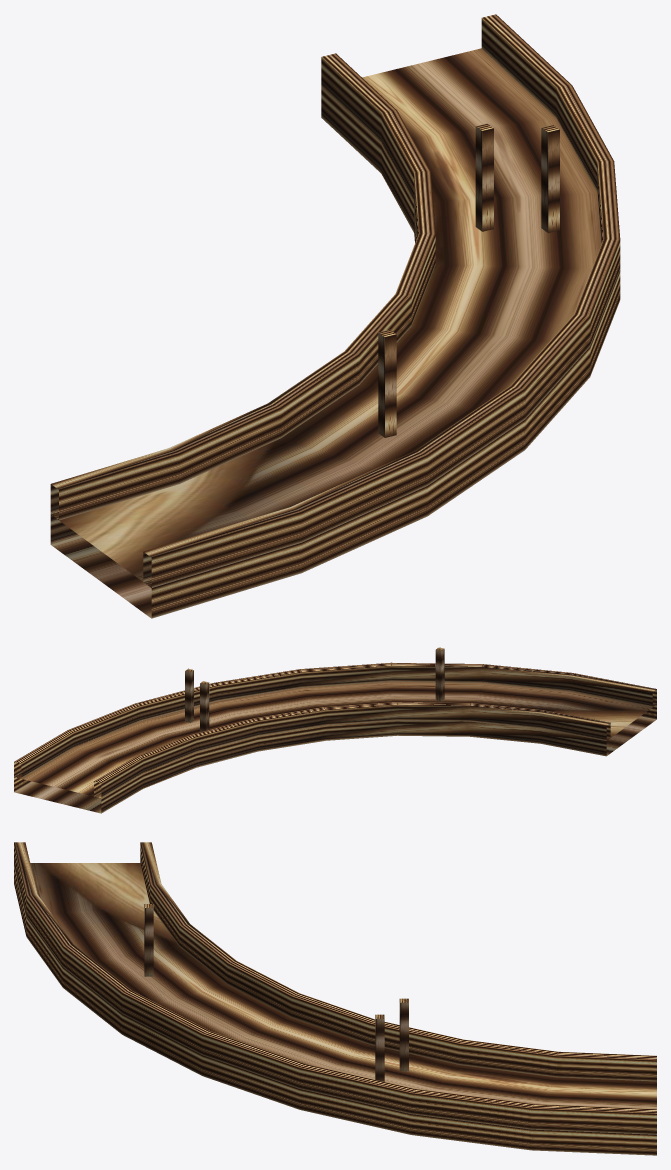
Rendered from J - Window Middle.obj.
3 views of the same model, one above another, from view 1: azimuth 30°, elevation 25°; view 2: azimuth 150°, elevation 25°; view 3: azimuth 270°, elevation 25° (orthographic). The views are drawn at different scales.
Visible parts, largest first — view 1: polySurface9; view 2: polySurface9; view 3: polySurface9.
Boxes of the visible parts, box(x1,y1,x2,y2) form: polySurface9: box(50, 14, 620, 618); polySurface9: box(14, 647, 656, 813); polySurface9: box(14, 842, 656, 1155).
Size of the model in its own units: 1960 by 301 by 1960.
